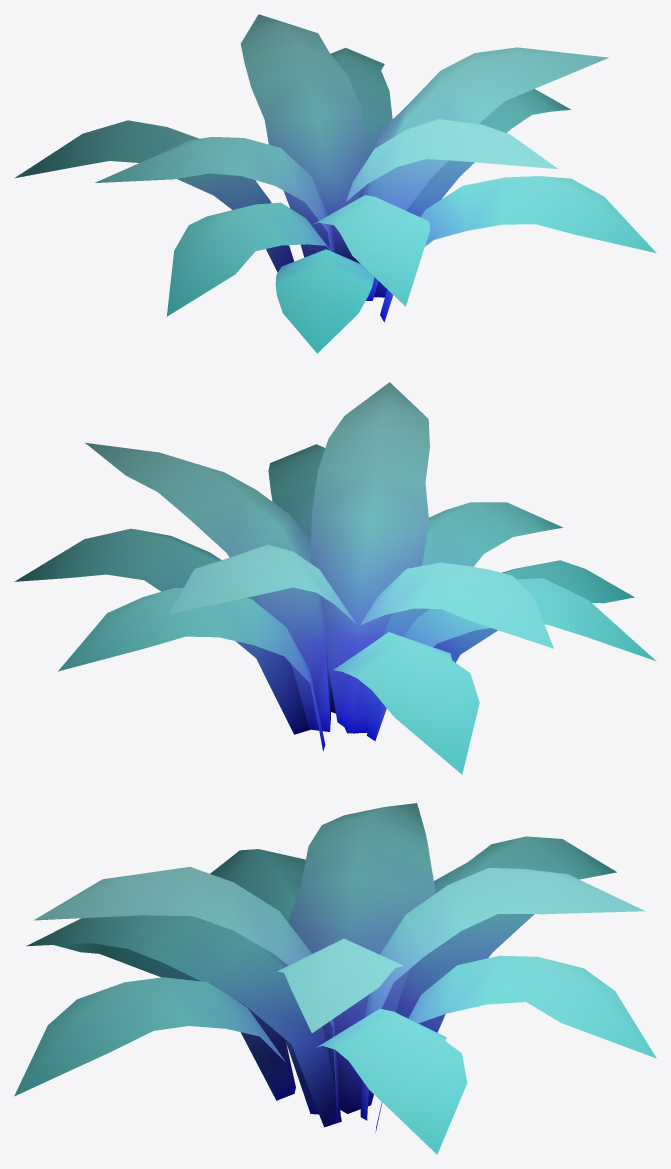
The model's file is SM_Env_Fern_01.glb.
3 renders of one model, top to bottom at view 1: azimuth 30°, elevation 25°; view 2: azimuth 150°, elevation 25°; view 3: azimuth 270°, elevation 25°, orthographic. The views are drawn at different scales.
Visible parts, largest first — view 1: SM_Env_Fern_01_LOD0; view 2: SM_Env_Fern_01_LOD0; view 3: SM_Env_Fern_01_LOD0.
Part boxes in pixels (x1,y1,x2,y2): SM_Env_Fern_01_LOD0: (14, 14, 656, 353); SM_Env_Fern_01_LOD0: (14, 382, 656, 774); SM_Env_Fern_01_LOD0: (14, 803, 656, 1154).
Size of what is drawn, in the model's own units: 2.63 by 1.16 by 2.42.
